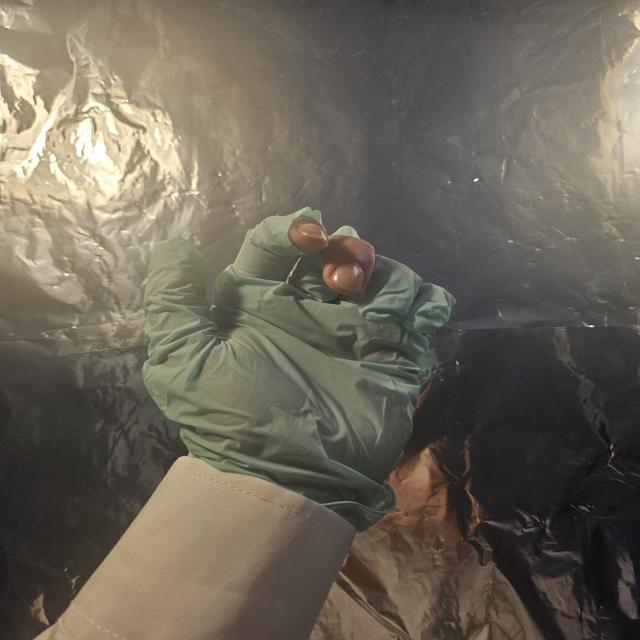gloves_damaged: (142, 207, 454, 530)
